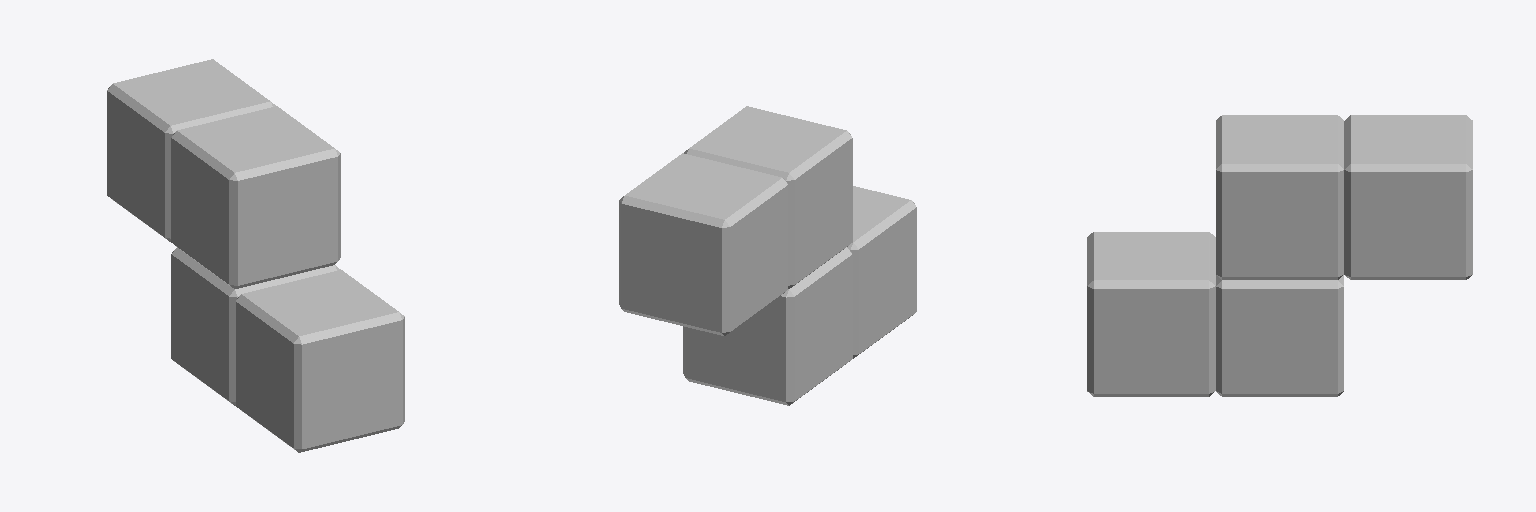
The model's file is fig5.obj.
3 renders of one model, left to right at view 1: azimuth 30°, elevation 25°; view 2: azimuth 150°, elevation 25°; view 3: azimuth 270°, elevation 25°, orthographic.
Visible parts, largest first — view 1: Cube.002, Cube, Cube.003, Cube.001; view 2: Cube.003, Cube.001, Cube.002, Cube; view 3: Cube, Cube.003, Cube.002, Cube.001.
Boxes of the visible parts, x1=… form: Cube.002: x1=171, y1=106, x2=340, y2=288; Cube: x1=236, y1=270, x2=404, y2=452; Cube.003: x1=107, y1=59, x2=275, y2=241; Cube.001: x1=171, y1=247, x2=340, y2=405; Cube.003: x1=619, y1=153, x2=787, y2=335; Cube.001: x1=683, y1=247, x2=852, y2=405; Cube.002: x1=684, y1=106, x2=852, y2=288; Cube: x1=847, y1=186, x2=916, y2=358; Cube: x1=1087, y1=232, x2=1215, y2=396; Cube.003: x1=1344, y1=115, x2=1472, y2=279; Cube.002: x1=1216, y1=115, x2=1343, y2=279; Cube.001: x1=1216, y1=275, x2=1343, y2=396.
Bounding box in the file's own units: 2 × 4 × 6.